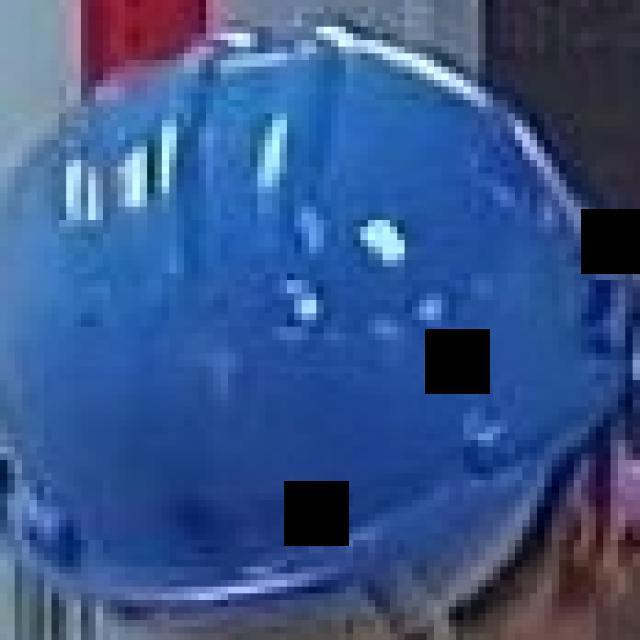blue helmet: (1, 23, 640, 640)
